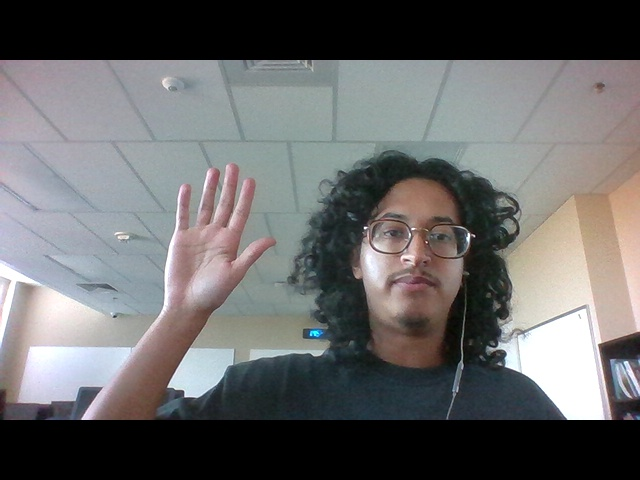hello: (156, 160, 286, 326)
